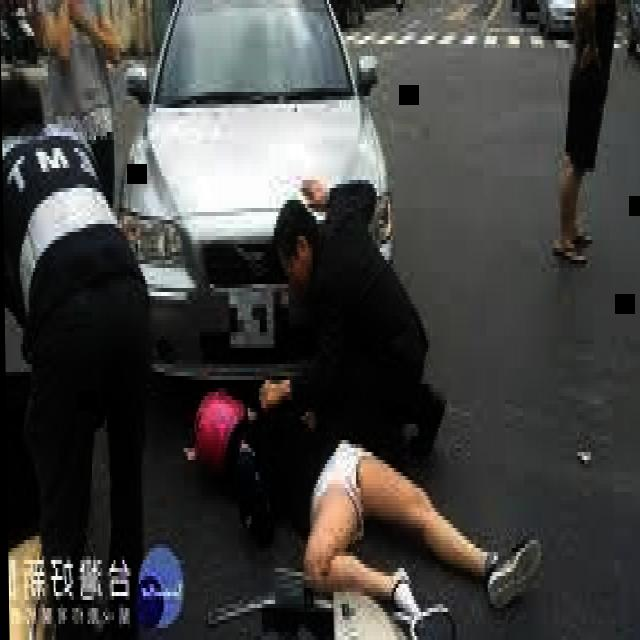Fall-Detected: (197, 352, 558, 632)
